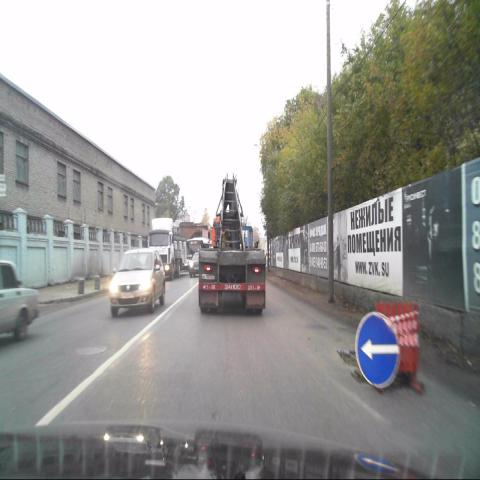4_1_2_2: (355, 310, 398, 390)
